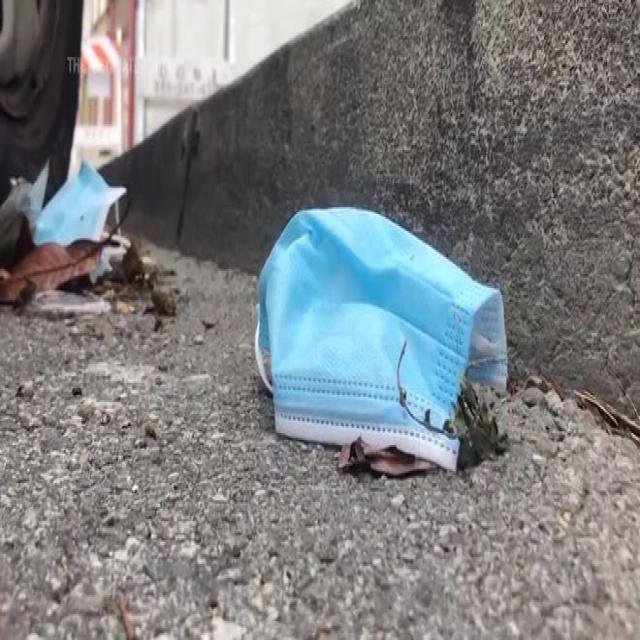face mask: (246, 210, 504, 472)
